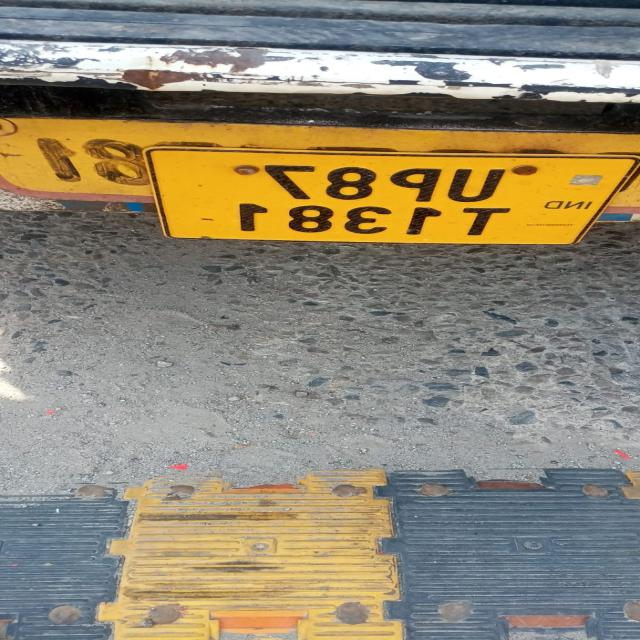License-plate: (156, 155, 586, 243)
